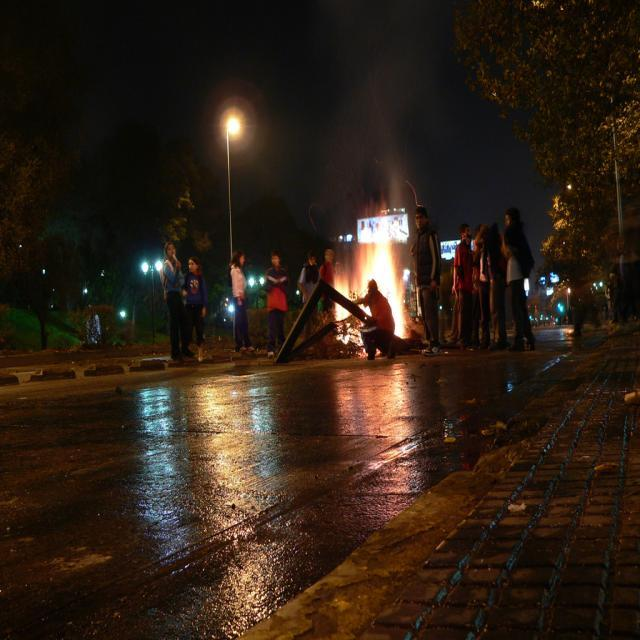Fire: (361, 253, 399, 290), (335, 275, 355, 297)
